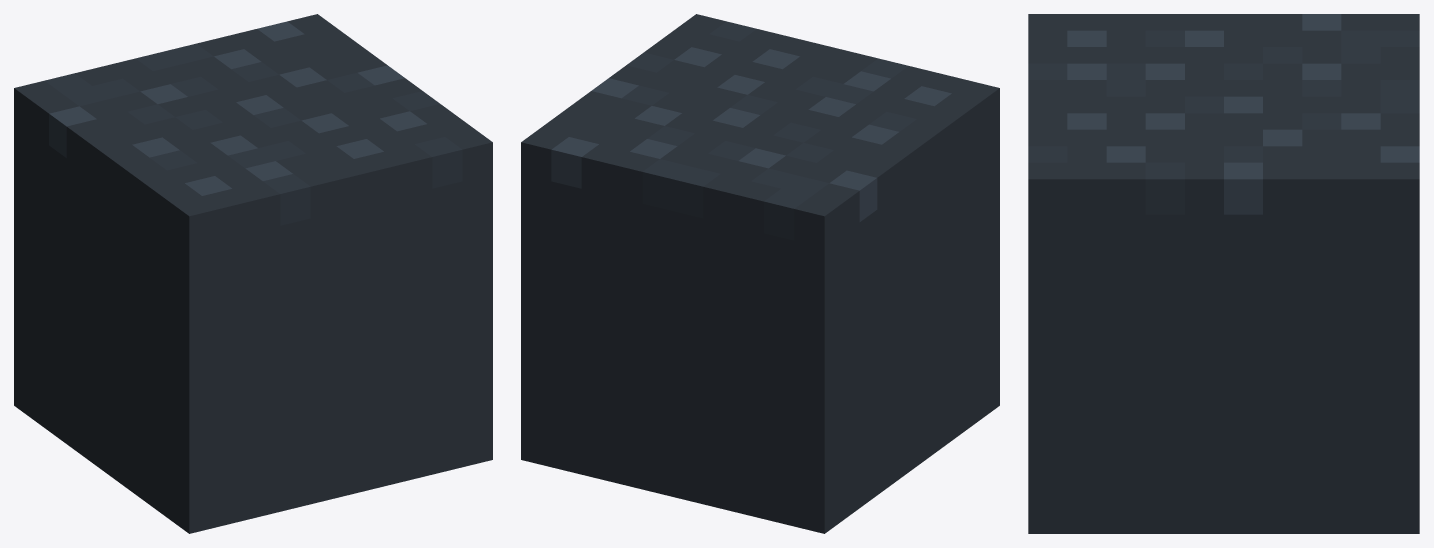
The model's file is ground.obj.
3 views of the same model, side by side, from view 1: azimuth 30°, elevation 25°; view 2: azimuth 150°, elevation 25°; view 3: azimuth 270°, elevation 25° (orthographic). The views are drawn at different scales.
Bounding box in the file's own units: 1 × 1 × 1.
